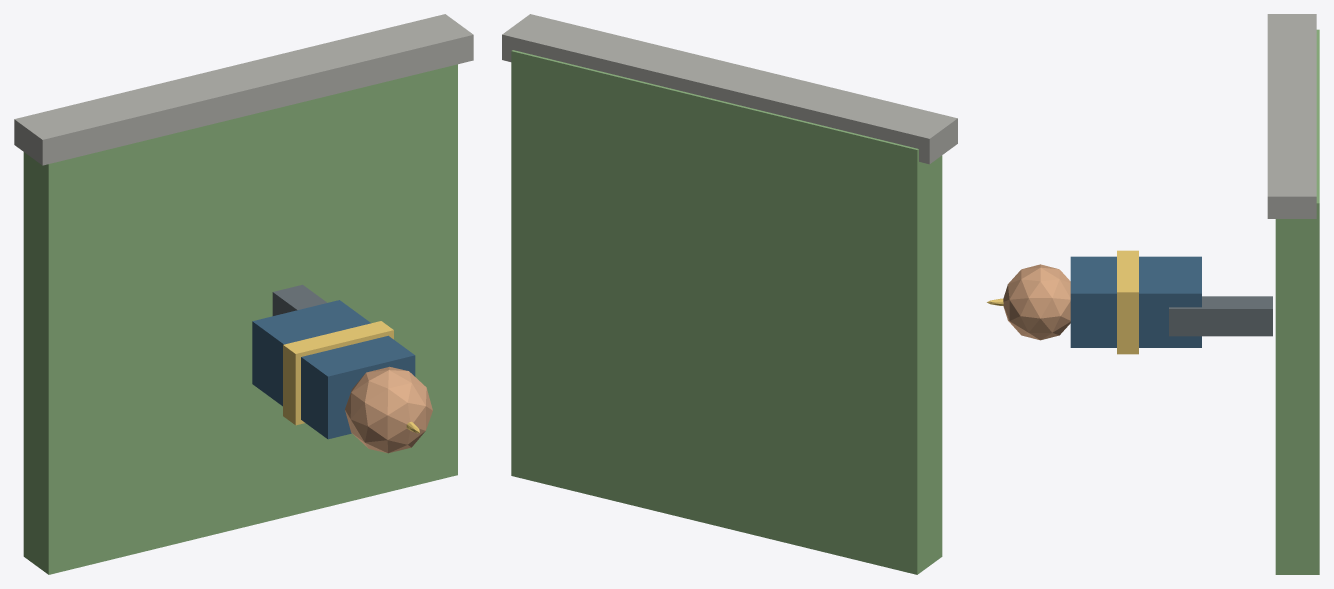
File: 09_QuanCanh.glb
3 renders of one model, left to right at view 1: azimuth 30°, elevation 25°; view 2: azimuth 150°, elevation 25°; view 3: azimuth 270°, elevation 25°, orthographic. The views are drawn at different scales.
Parts seen in each view (by area): view 1: base, edge, body, head, belt, leg; view 2: base, edge; view 3: base, edge, body, head, leg, belt.
Boxes of the visible parts, bbox=[...] form: base: bbox=[23, 64, 457, 574]; edge: bbox=[14, 14, 473, 165]; body: bbox=[252, 300, 415, 439]; head: bbox=[345, 366, 432, 453]; belt: bbox=[283, 321, 393, 425]; leg: bbox=[272, 284, 327, 315]; base: bbox=[511, 50, 942, 574]; edge: bbox=[502, 14, 957, 164]; base: bbox=[1275, 29, 1319, 574]; edge: bbox=[1267, 14, 1316, 218]; body: bbox=[1070, 256, 1201, 347]; head: bbox=[1003, 264, 1070, 340]; leg: bbox=[1169, 296, 1272, 336]; belt: bbox=[1117, 250, 1138, 354].
Size of the model in its own units: 1.58 by 1.55 by 1.22.
